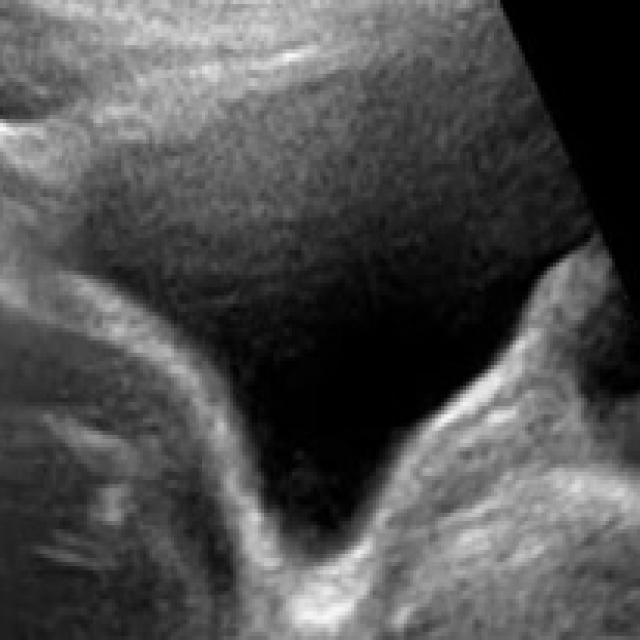bladder: (38, 12, 620, 616)
